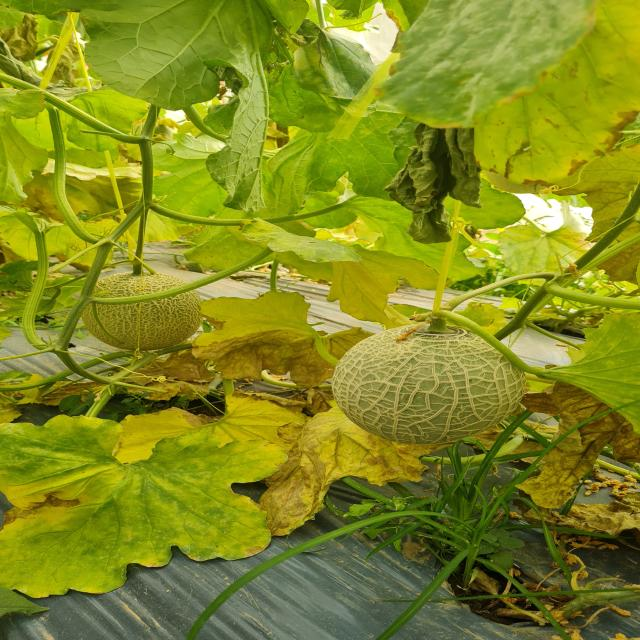melon: (331, 326, 524, 445), (82, 290, 202, 350), (96, 272, 184, 298)
